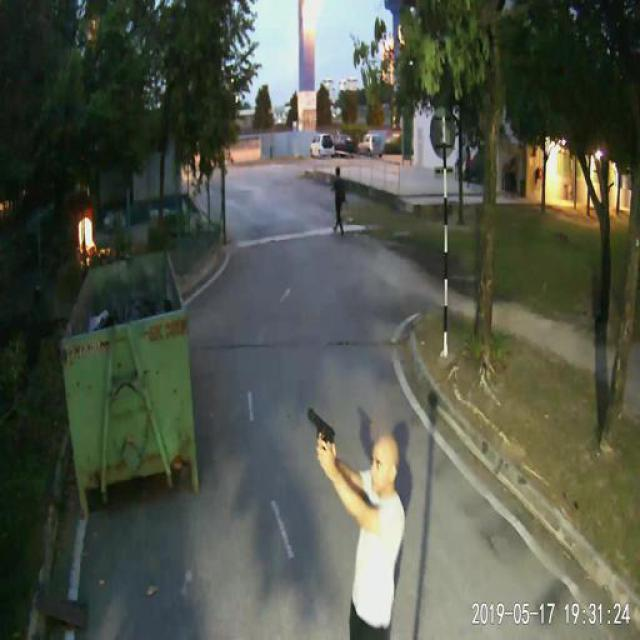Gun: (306, 408, 334, 462)
